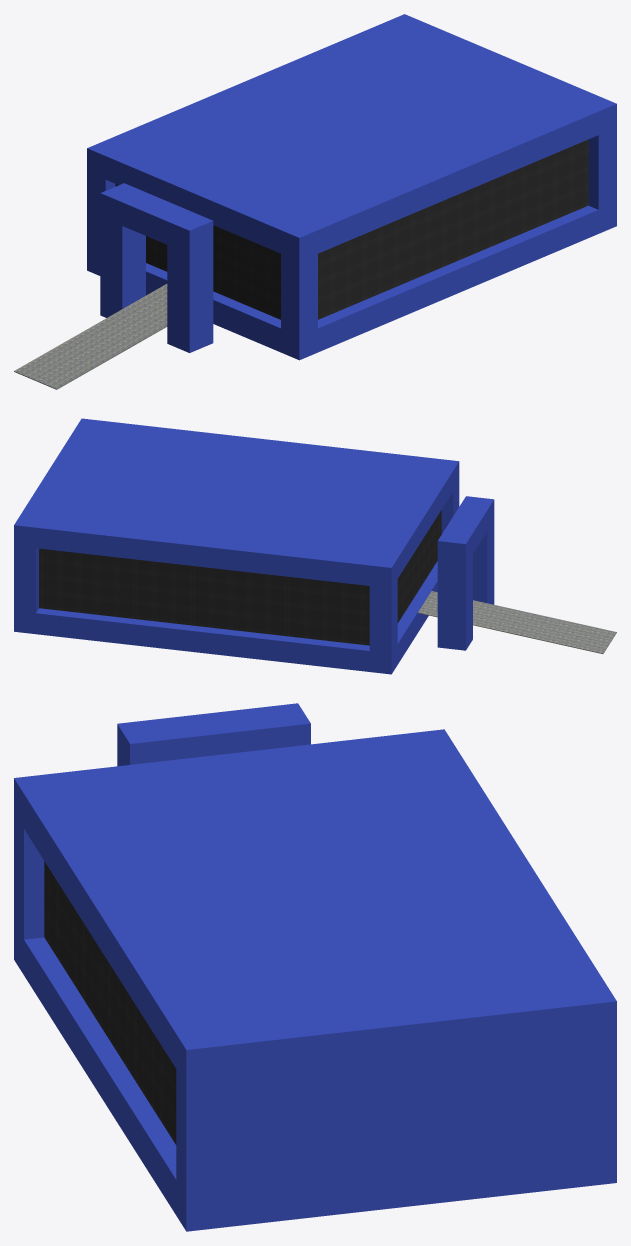
Rendered from tribunal.FBX.
3 views of the same model, one above another, from view 1: azimuth 30°, elevation 25°; view 2: azimuth 150°, elevation 25°; view 3: azimuth 270°, elevation 25° (orthographic). The views are drawn at different scales.
Parts seen in each view (by area): view 1: tribunal_jjust; view 2: tribunal_jjust; view 3: tribunal_jjust.
Boxes of the visible parts, left/top/right/bottom form: tribunal_jjust: left=14, top=14, right=616, bottom=389; tribunal_jjust: left=14, top=418, right=616, bottom=674; tribunal_jjust: left=14, top=703, right=616, bottom=1231.
Size of the model in its own units: 92.31 by 18.03 by 54.03.
